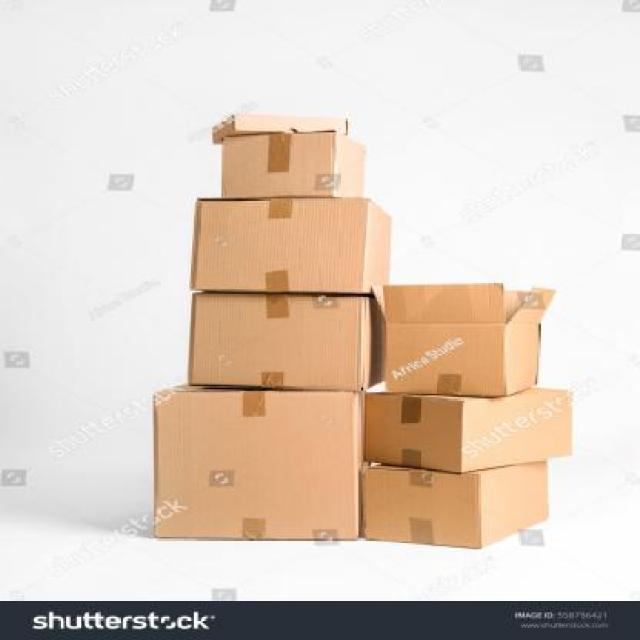BoxFace: (154, 390, 362, 541), (190, 293, 364, 393), (189, 199, 369, 293), (363, 466, 482, 549), (386, 322, 504, 400), (366, 390, 462, 476), (220, 133, 337, 198), (234, 114, 348, 134)
